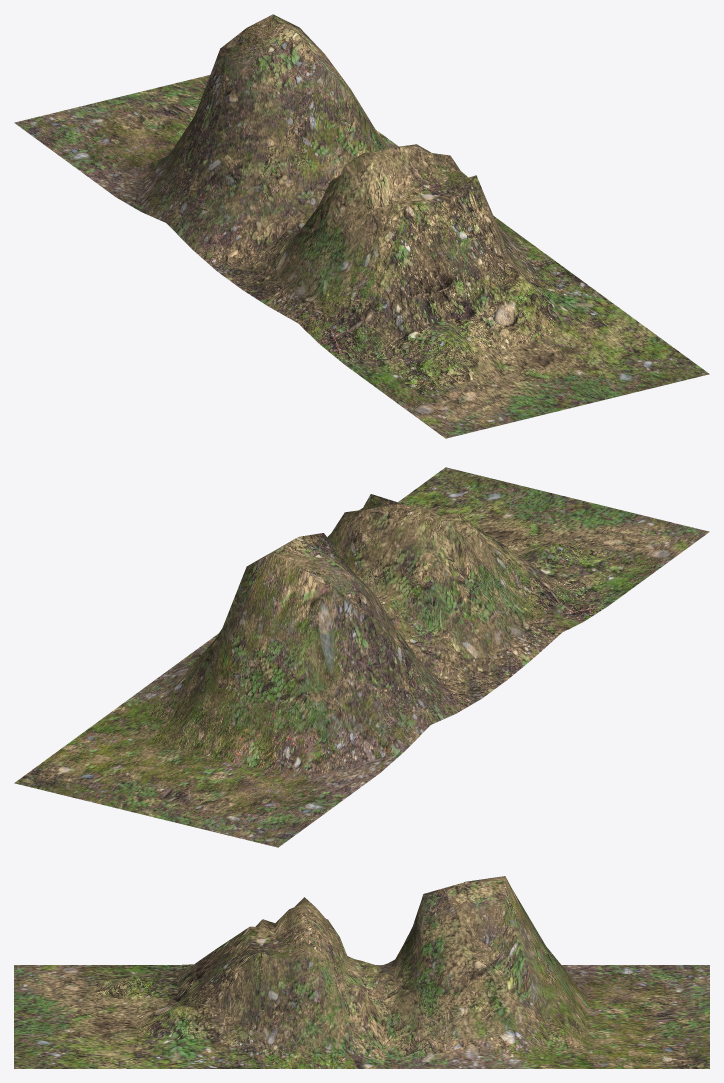
The model's file is kopecek1-textured.fbx.
3 views of the same model, one above another, from view 1: azimuth 30°, elevation 25°; view 2: azimuth 150°, elevation 25°; view 3: azimuth 270°, elevation 25° (orthographic). The views are drawn at different scales.
Visible parts, largest first — view 1: Plane; view 2: Plane; view 3: Plane.
Boxes of the visible parts, x1,y1,x2,y2 form: Plane: (14, 14, 709, 438); Plane: (14, 467, 709, 847); Plane: (14, 876, 709, 1068).
Size of the model in its own units: 963 by 589 by 2726.
Materials: 1 (1 with a texture image).
